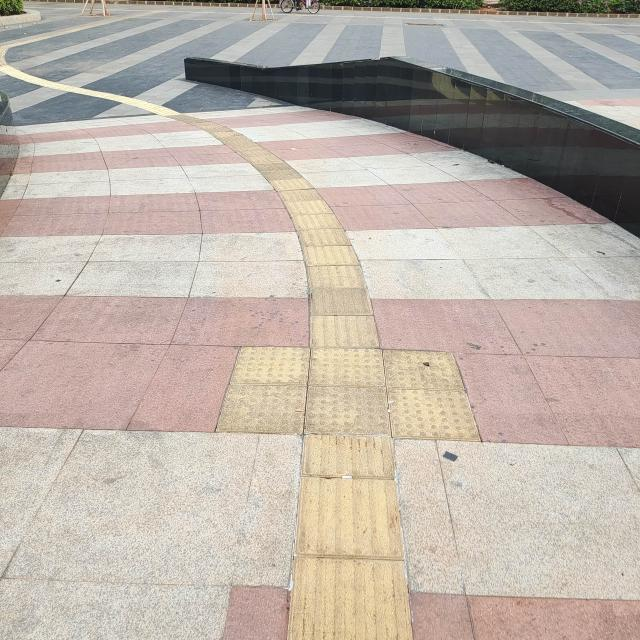lurus: (273, 207, 401, 640)
